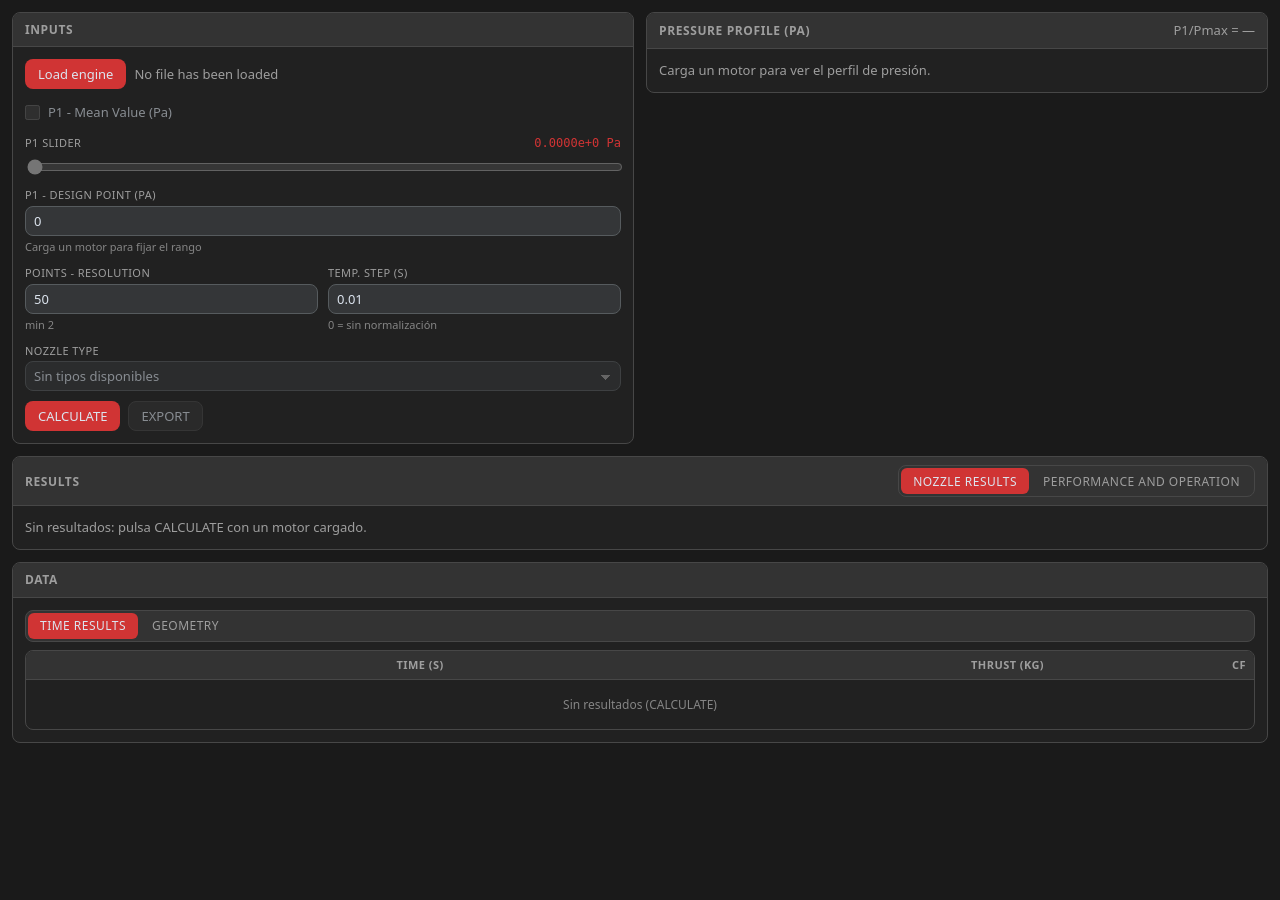
Scenario: NozzleTab (T2) › marca Invalid File cuando el motor es ilegible (T2-1)
Click the button "Load engine": (76,74) [25,59,126,89]
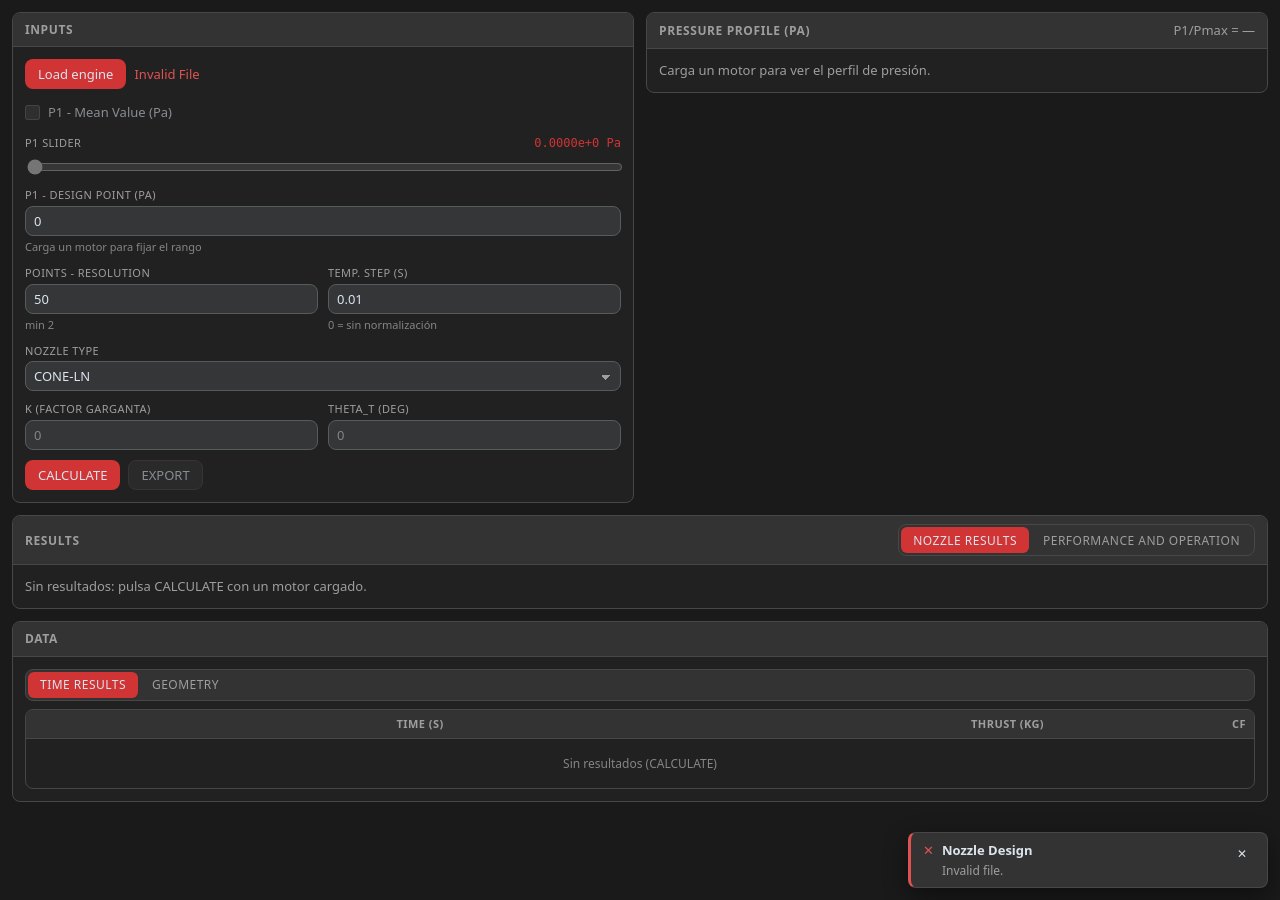
Expected: the text with test id "nozzle-engine-label" reads "Invalid File", [134,65,200,83]
Expected: the text "Invalid file." is shown, [942,862,1003,879]
